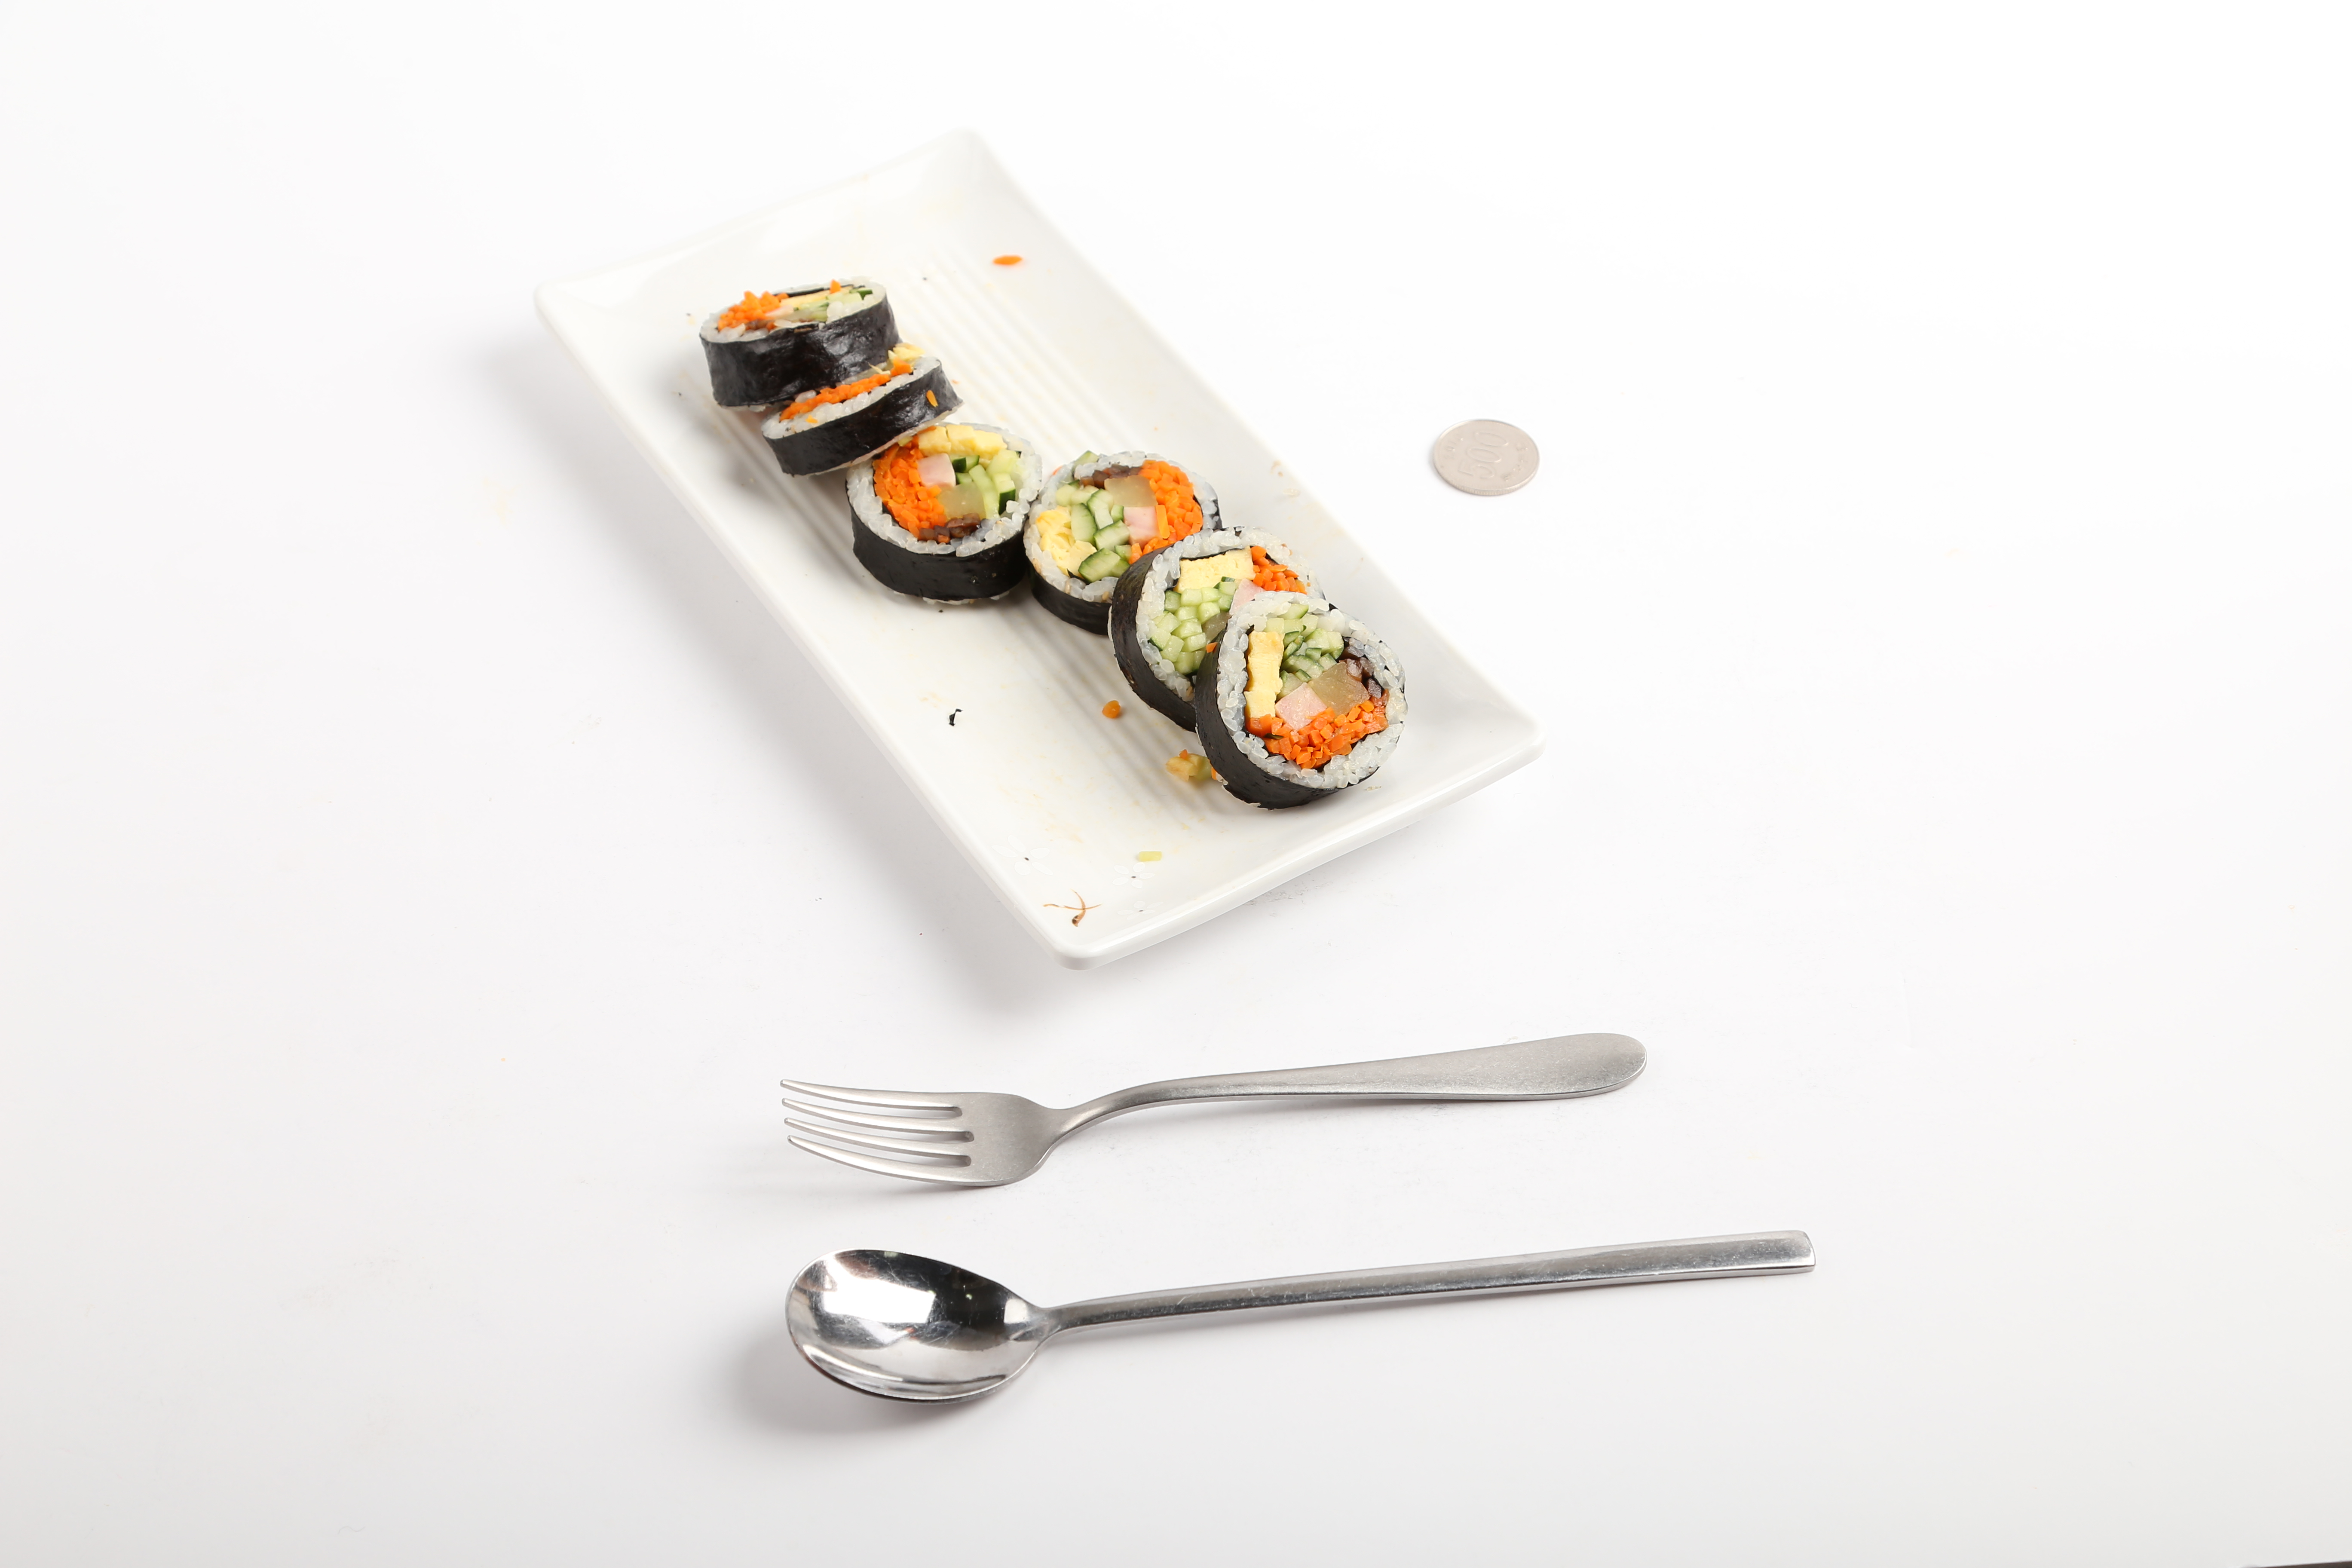dish: (525, 122, 1552, 971)
ref_coin: (1421, 409, 1543, 502)
ref_fork: (779, 1055, 1130, 1188)
ref_spoon: (779, 1241, 1144, 1412)
김밥: (696, 259, 1416, 812)
